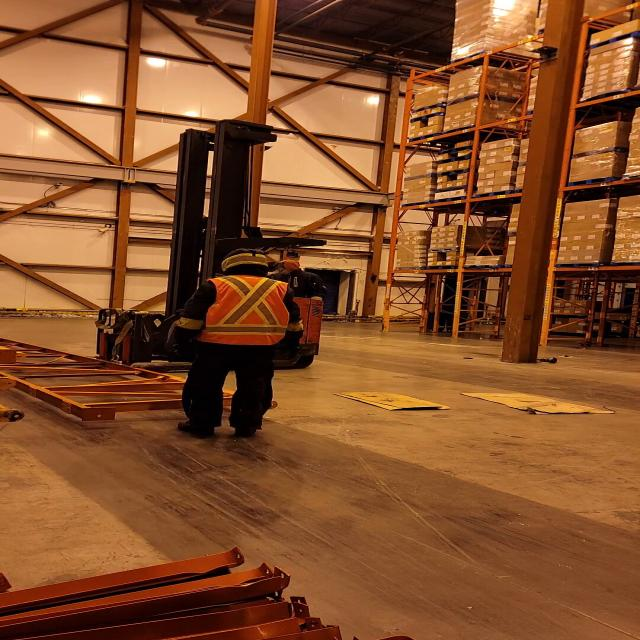forklift: (71, 130, 326, 372)
human: (164, 248, 295, 440), (259, 258, 341, 306)
objectofinterest: (1, 335, 280, 426), (458, 390, 621, 418), (330, 388, 458, 412)
